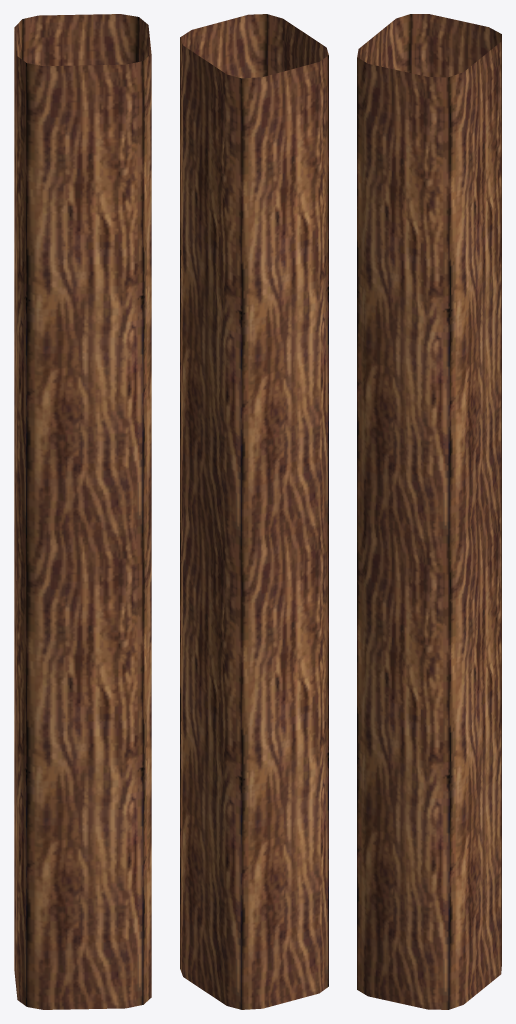
Rendered from OVERHILL_A_01_LINE159.fbx.
3 views of the same model, side by side, from view 1: azimuth 30°, elevation 25°; view 2: azimuth 150°, elevation 25°; view 3: azimuth 270°, elevation 25° (orthographic).
Visible parts, largest first — view 1: OVERHILL_A_01_LINE159; view 2: OVERHILL_A_01_LINE159; view 3: OVERHILL_A_01_LINE159.
Part boxes in pixels (x1,y1,x2,y2): OVERHILL_A_01_LINE159: (14, 14, 151, 1009); OVERHILL_A_01_LINE159: (180, 14, 328, 1009); OVERHILL_A_01_LINE159: (357, 14, 501, 1009).
Size of the model in its own units: 5927 by 40697 by 5721.
Materials: 1 (1 with a texture image).
